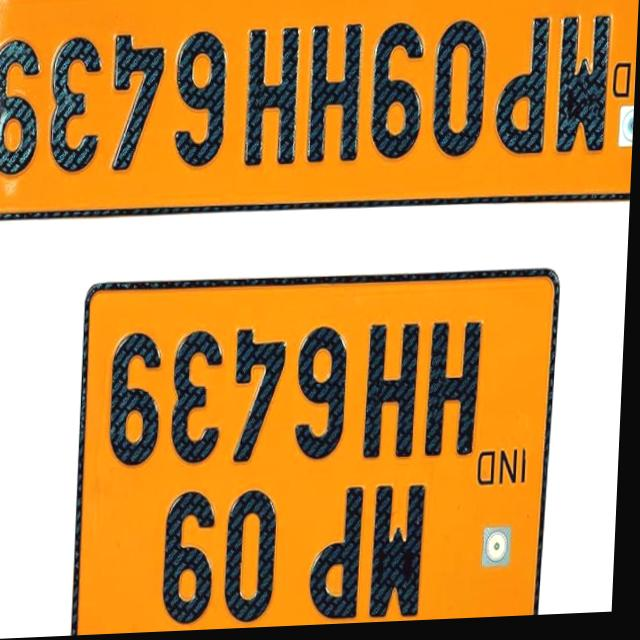0: (428, 13, 494, 162), (225, 490, 285, 625)
3: (46, 29, 111, 178), (171, 326, 230, 466)
4: (227, 327, 294, 466), (110, 30, 168, 179)
6: (169, 20, 232, 173), (293, 326, 356, 468)
9: (107, 336, 171, 469), (370, 17, 429, 161), (164, 489, 225, 627), (0, 37, 45, 176)
h: (245, 22, 305, 171), (364, 324, 426, 468), (426, 320, 488, 464), (308, 21, 367, 171)
m: (553, 15, 619, 164), (371, 484, 439, 626)
p: (309, 485, 372, 627), (493, 16, 553, 164)
